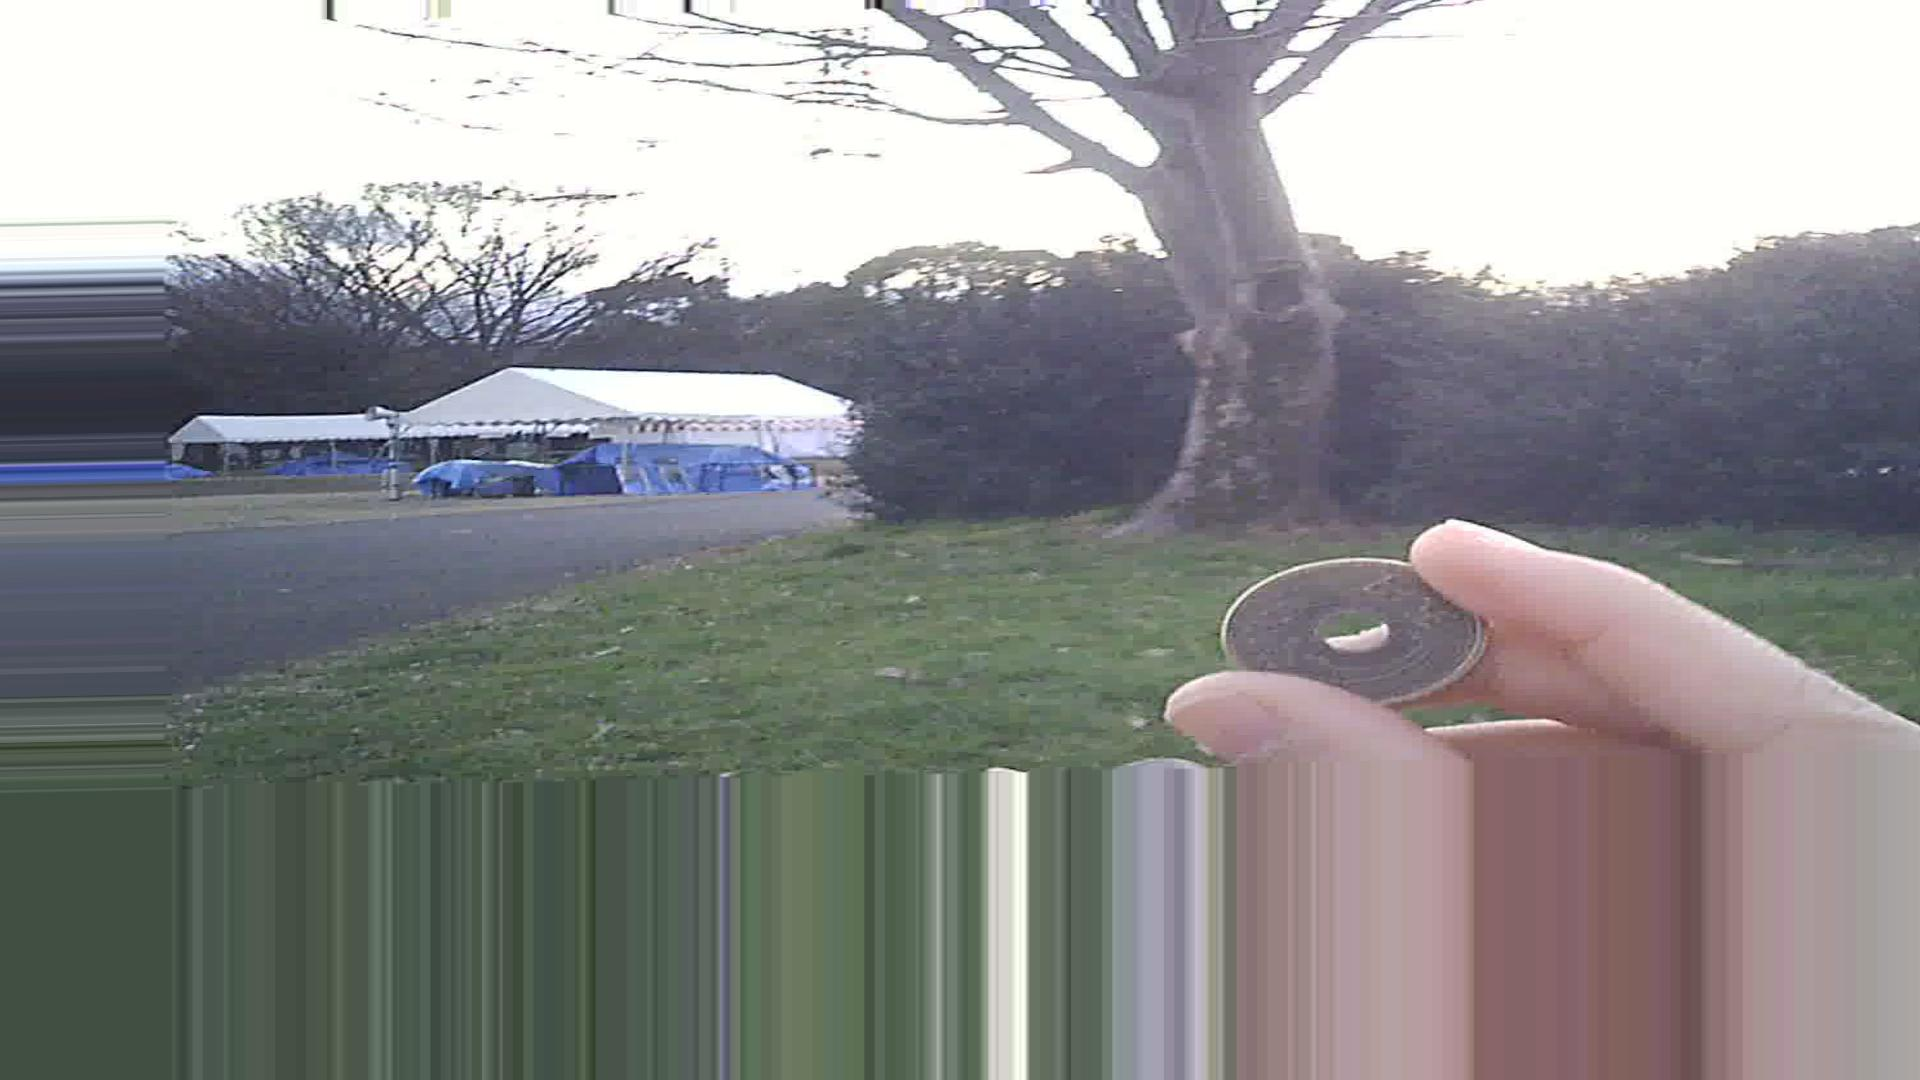5 Yen: (1228, 541, 1484, 717)
